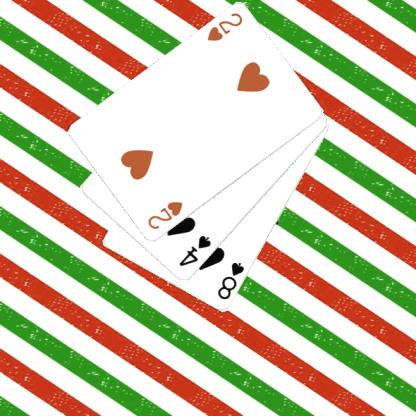2H: (144, 198, 184, 232), (204, 10, 244, 43)
4S: (176, 233, 212, 268)
8S: (214, 259, 246, 302)
